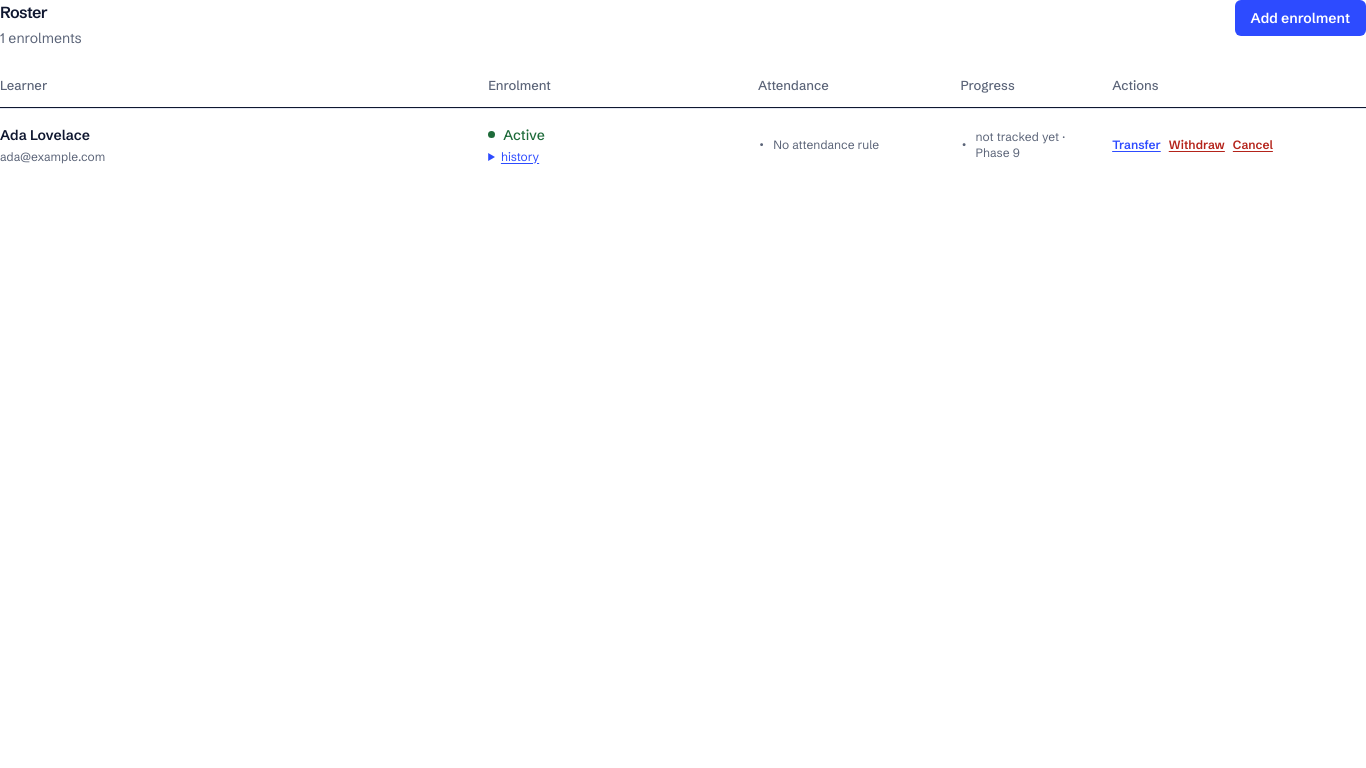
Test: RosterTab › renders a CapacityExceededError result inside the Add-enrolment modal's error slot
Click the button "Add enrolment": (1300, 18) [1234,0,1365,36]
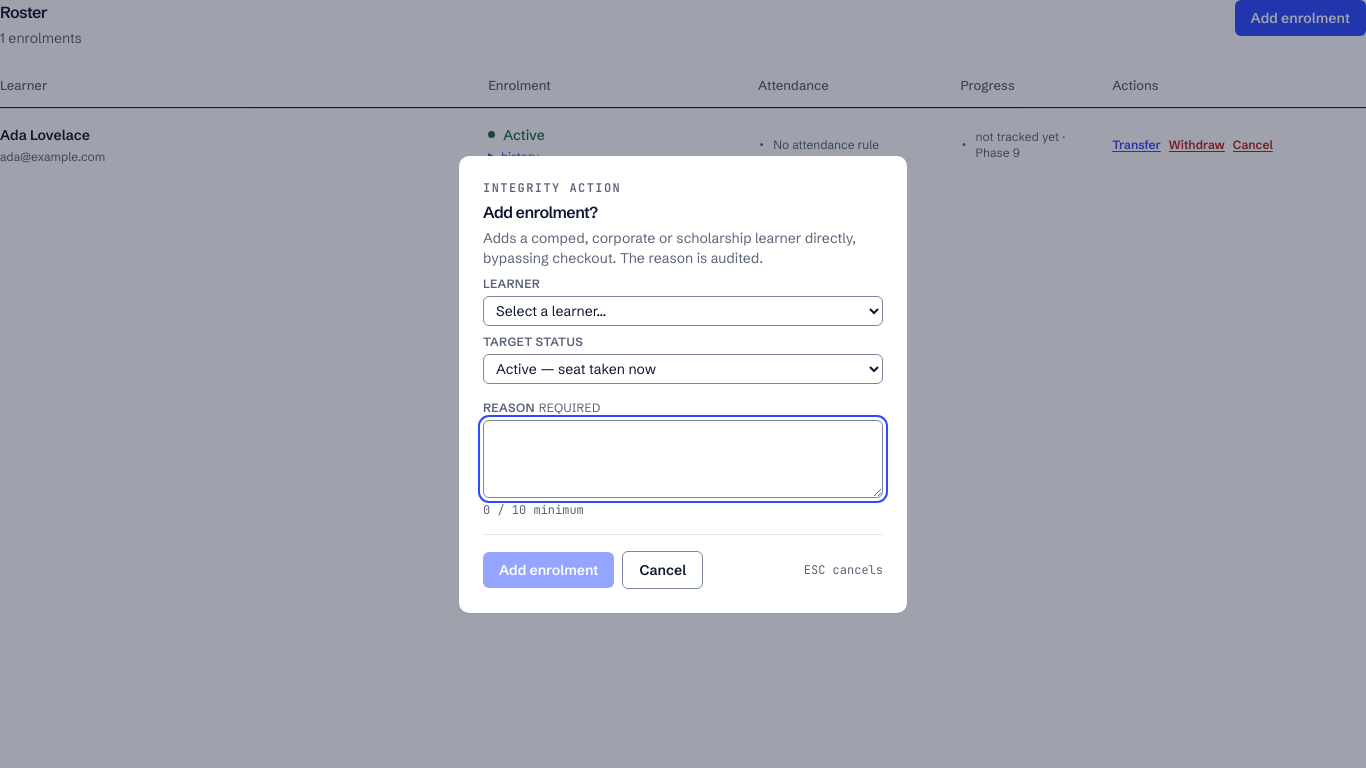
Select "Alan Turing · alan@example.com" in the dropdown labelled "Learner": (683, 310) [483,296,883,326]
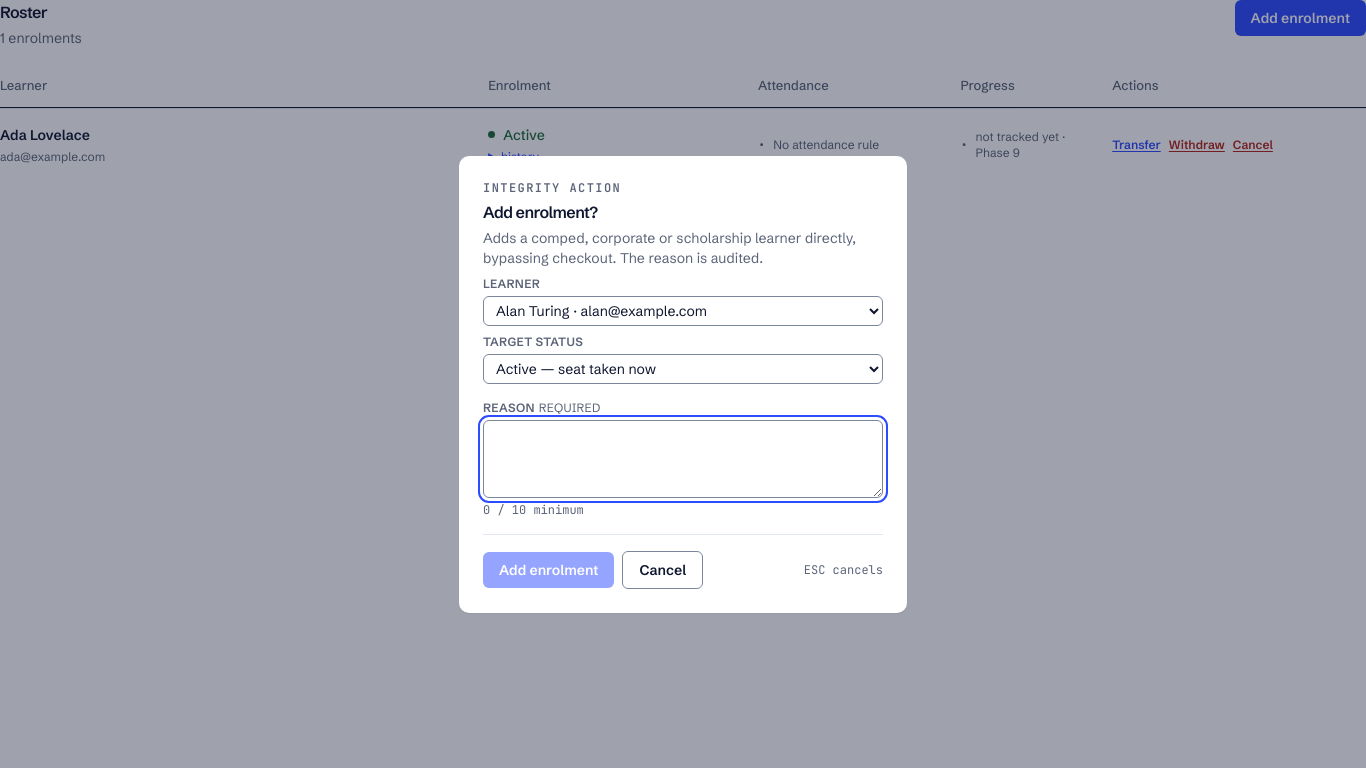
In the text box labelled "Reasonrequired": (683, 458) [483,420,883,498], type "Backfilling a comped seat for a partner org"
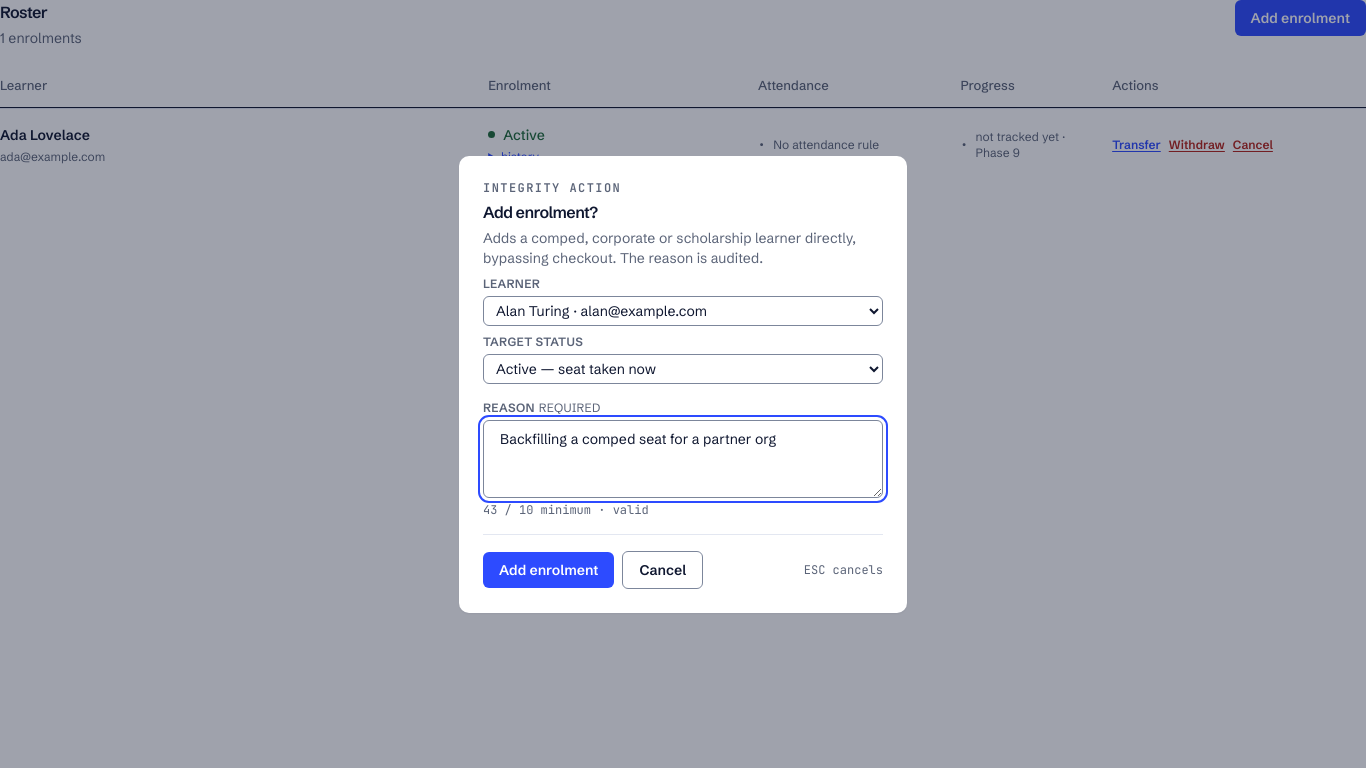
Click the button "Add enrolment": (549, 570) [483,552,614,588]
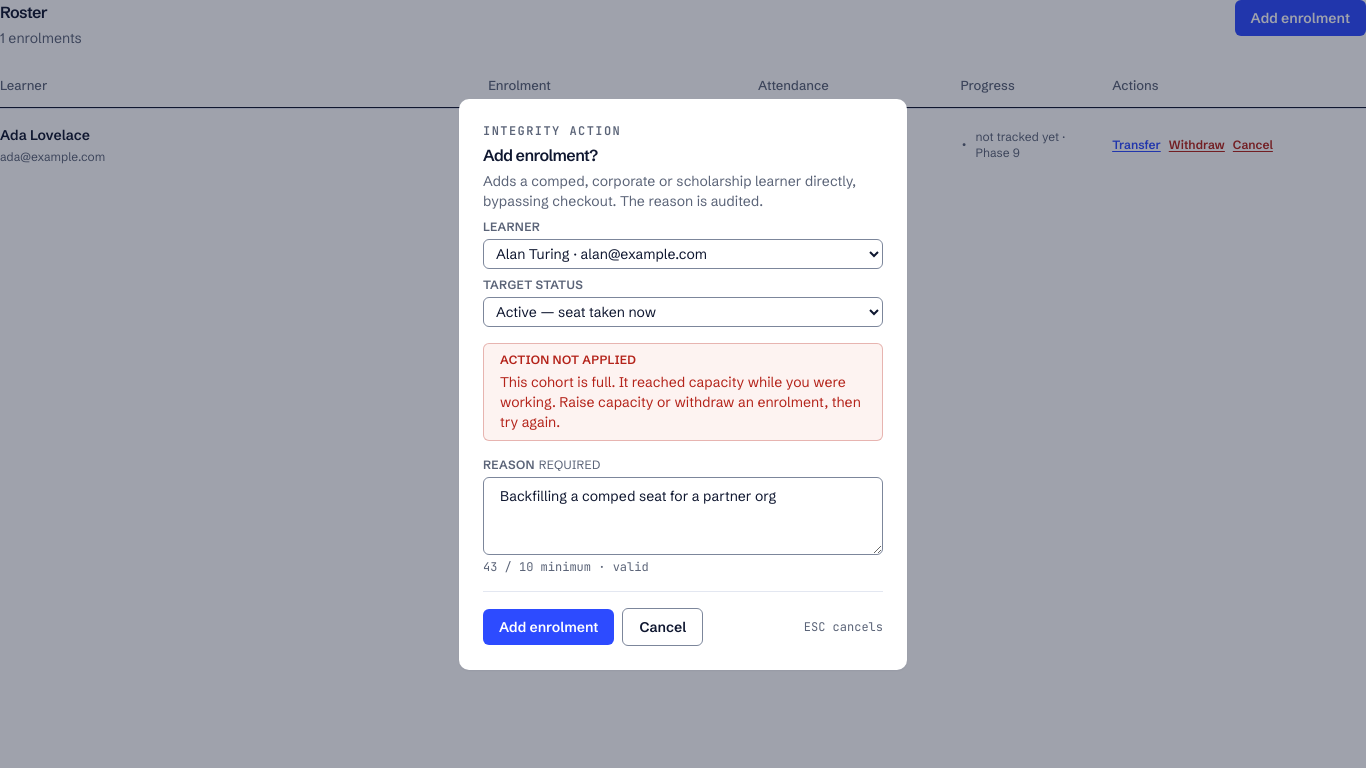
Check: the text "This cohort is full. It reached capacity while you were working. Raise capacity or withdraw an enrolment, then try again" is shown, box [500,372,861,430]
Check: the text "Action not applied" is shown, box [500,352,636,366]
